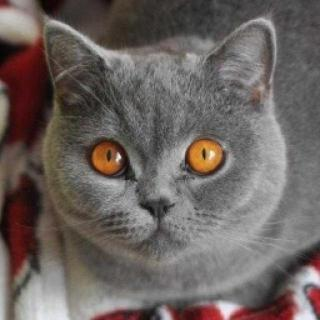cat: (41, 15, 278, 272)
nose: (135, 184, 179, 227)
